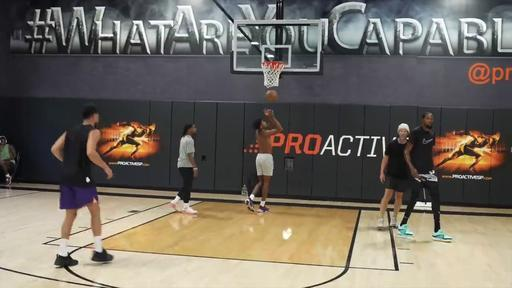ball: (266, 88, 278, 100)
human: (50, 106, 114, 266), (398, 112, 453, 243), (244, 108, 282, 214), (378, 122, 410, 230), (171, 123, 199, 214)
rim: (261, 61, 284, 87)
